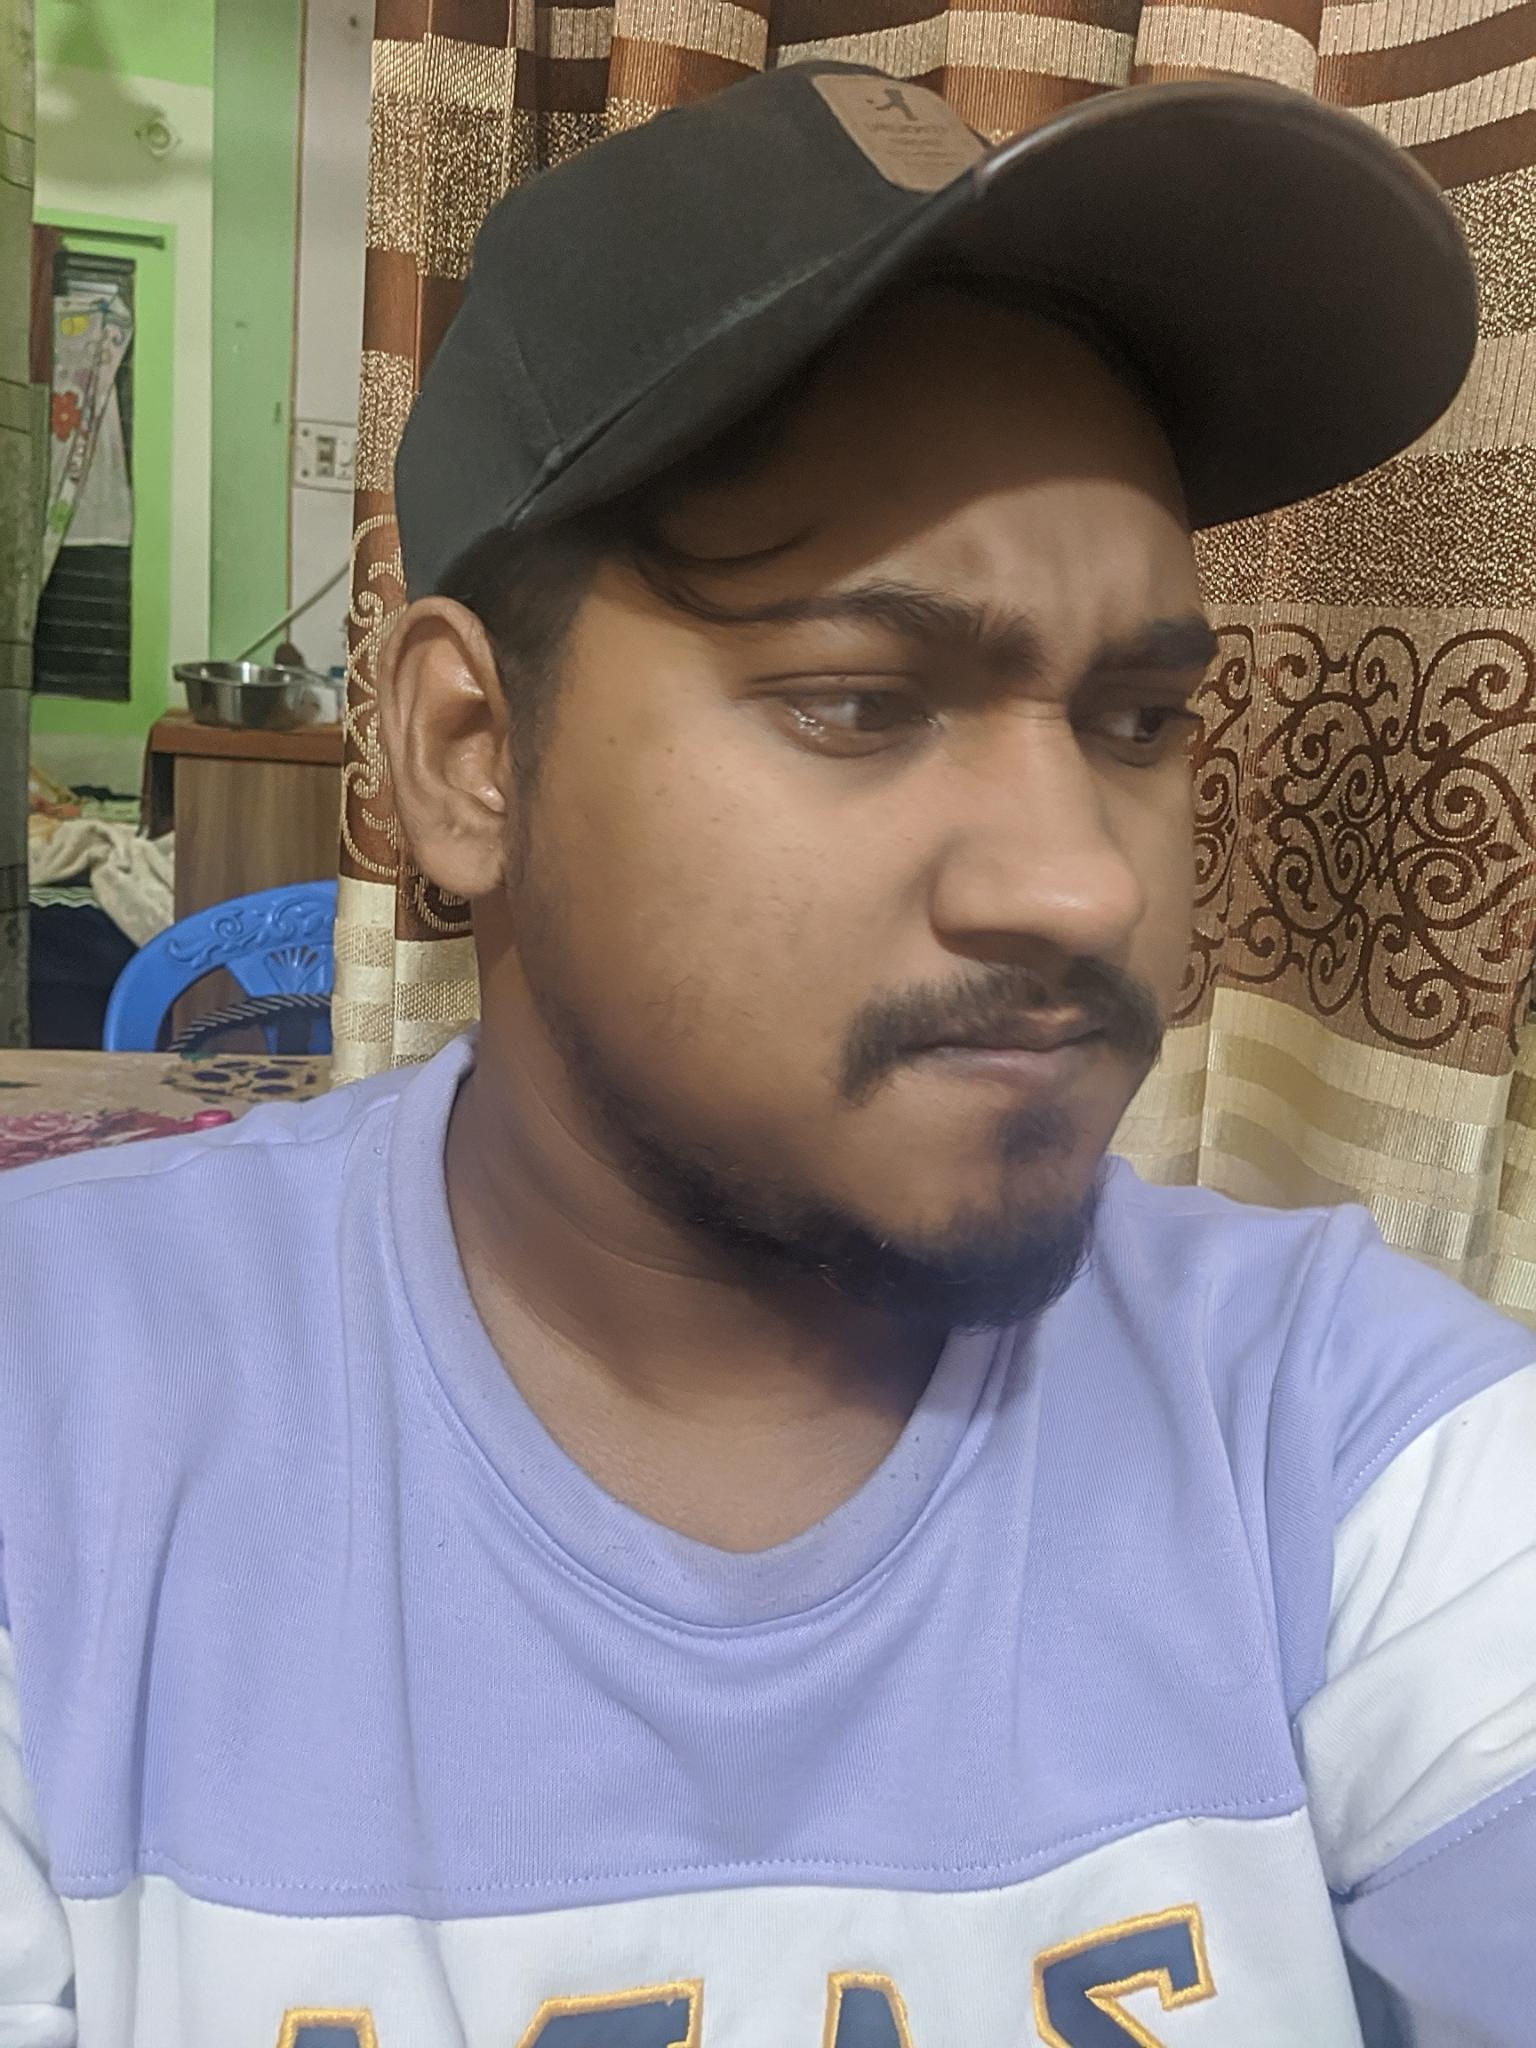Angry: (691, 529, 1241, 1187)
